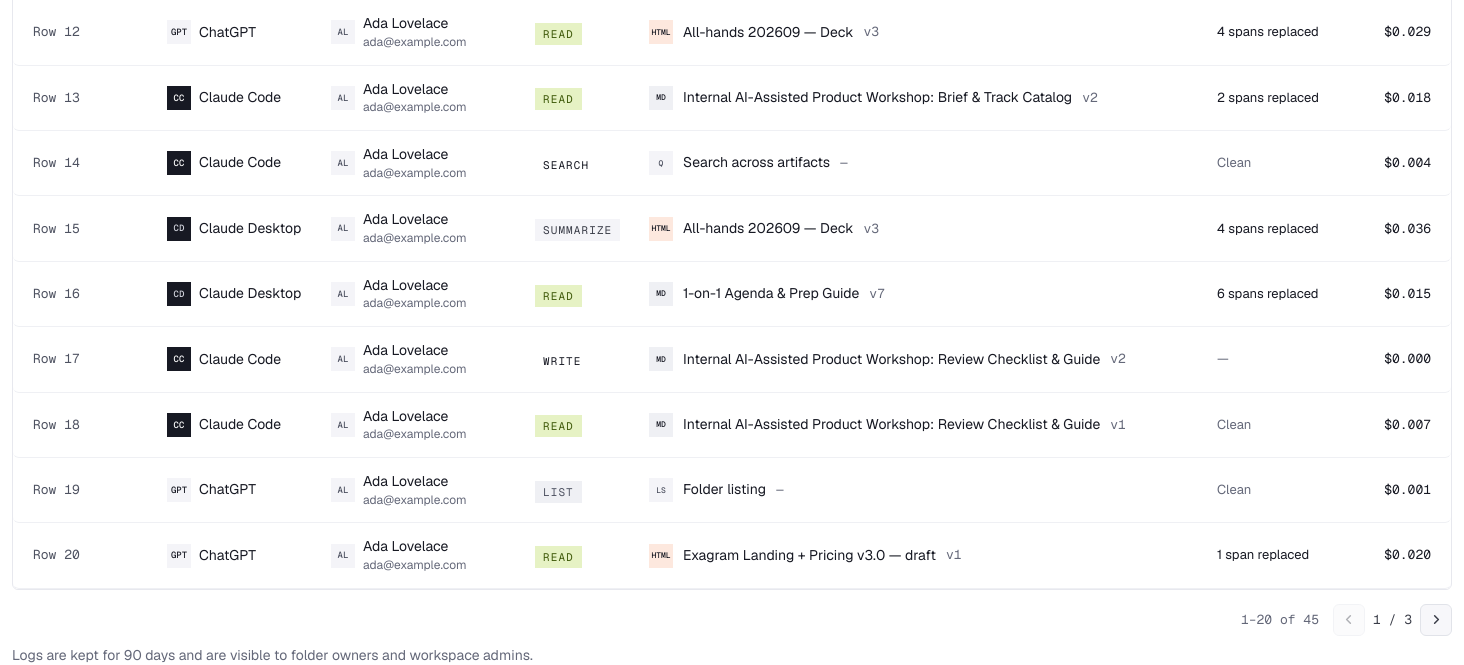
Test: AuditView › pages through the log while totals still cover every row
(page scrolled)
Expected: the button named "Previous page" is disabled, [1333,604,1365,636]
Click the button named "Next page" at (1436, 620), box [1420,604,1452,636]
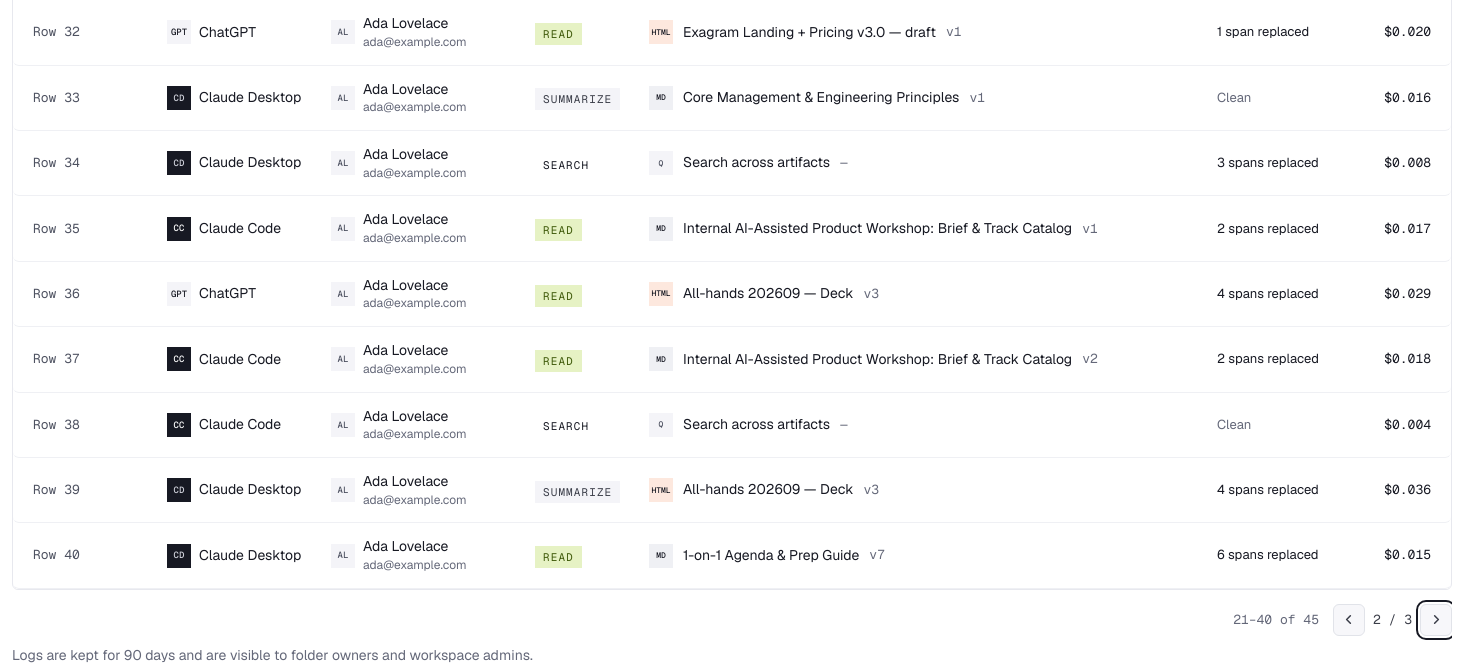
Expected: the text "2 / 3" is shown, [1373,611,1412,629]
Click the button named "Next page" at (1436, 620), box [1420,604,1452,636]
(page scrolled)
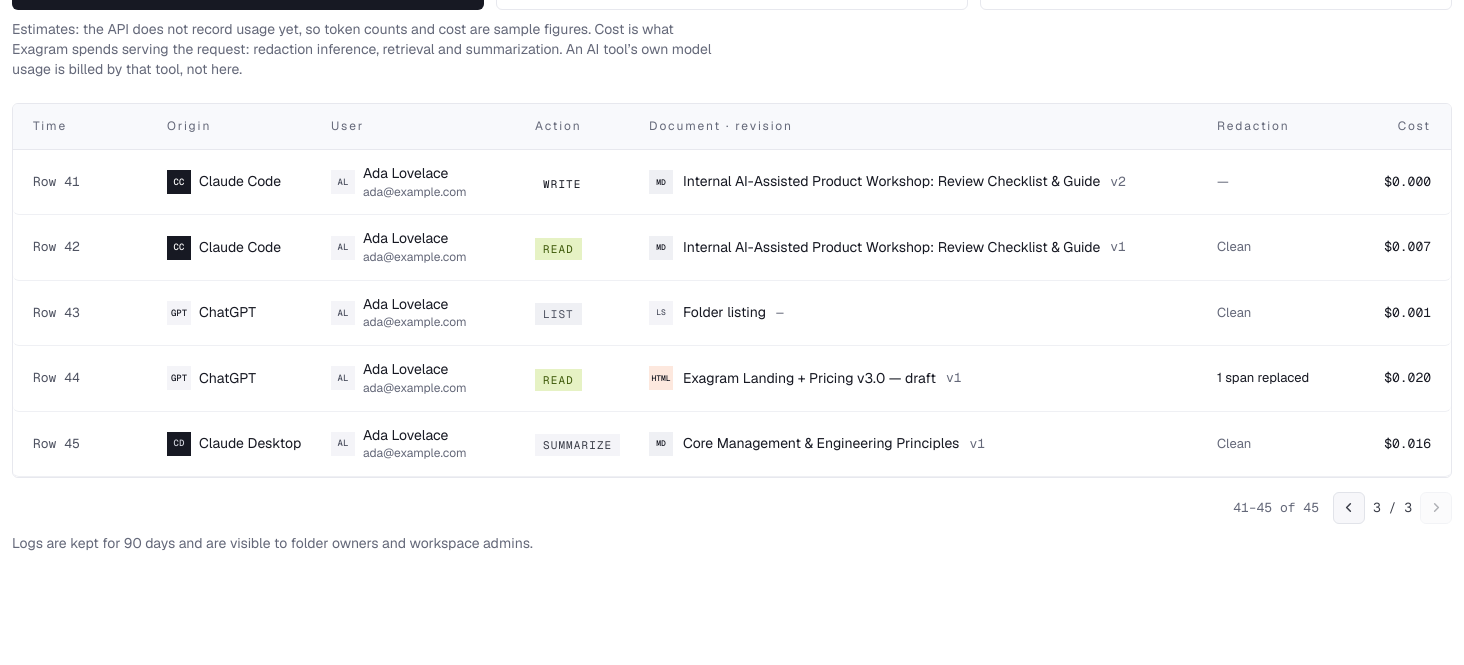
Expected: the button named "Next page" is disabled, [1420,492,1452,524]
Click the button named "Previous page" at (1349, 508), box [1333,492,1365,524]
(page scrolled)
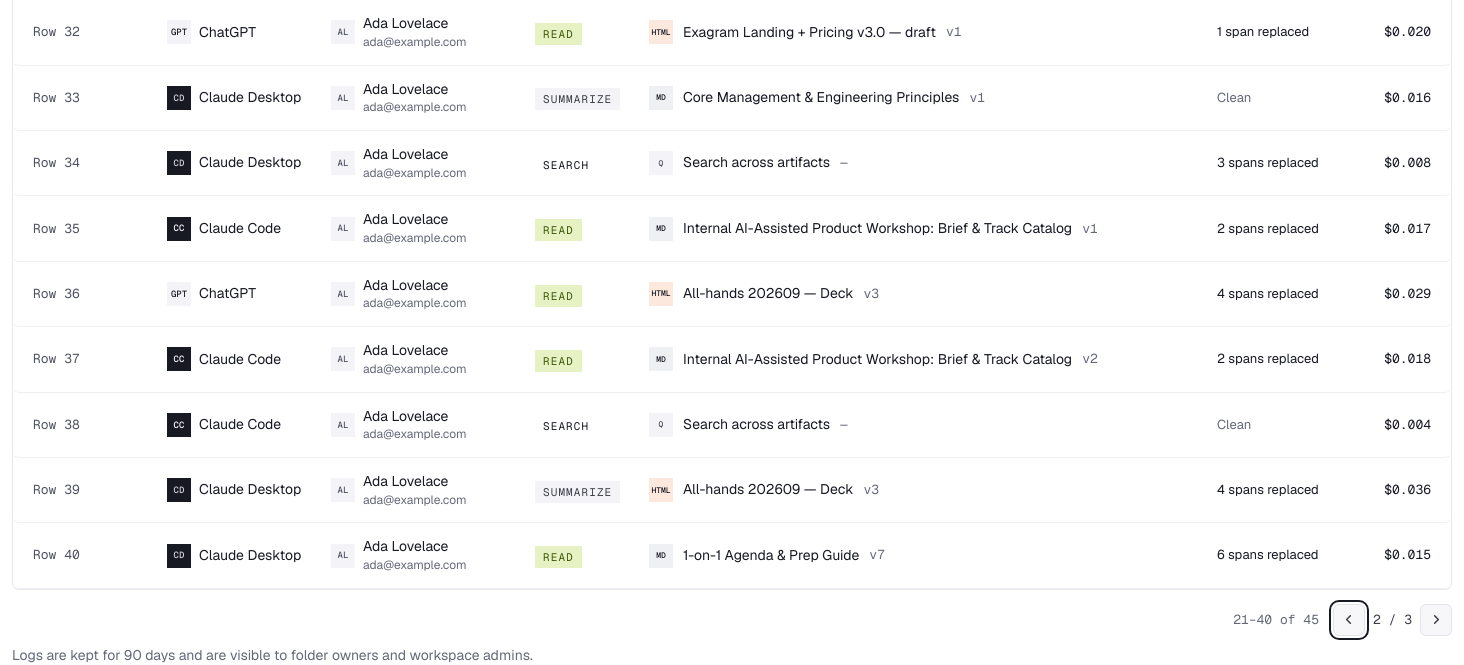
Expected: the text "2 / 3" is shown, [1373,611,1412,629]
